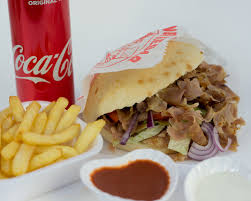coke: (6, 2, 80, 102)
